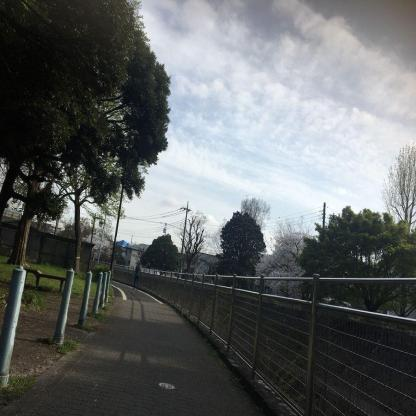Someiyoshino: (251, 218, 316, 294), (80, 223, 114, 262)
